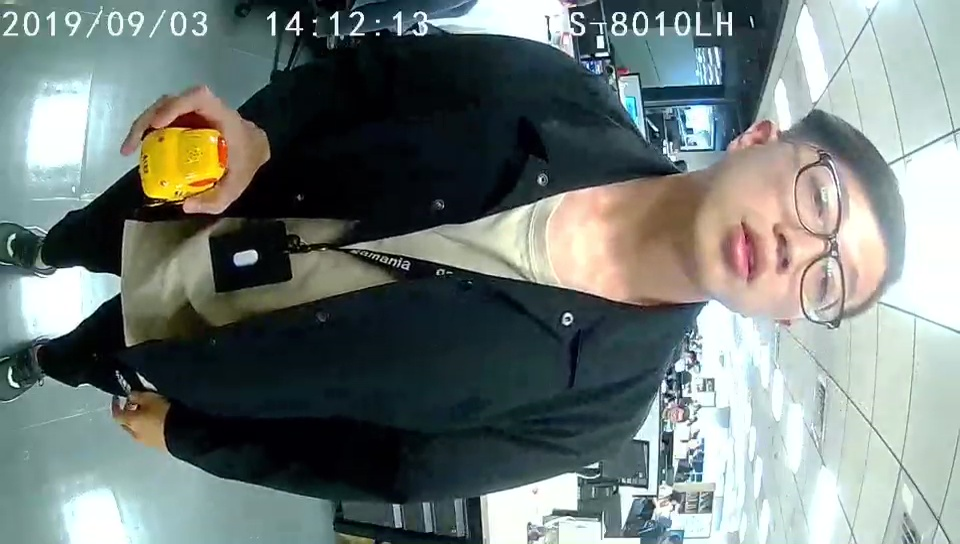car: (139, 127, 226, 203)
